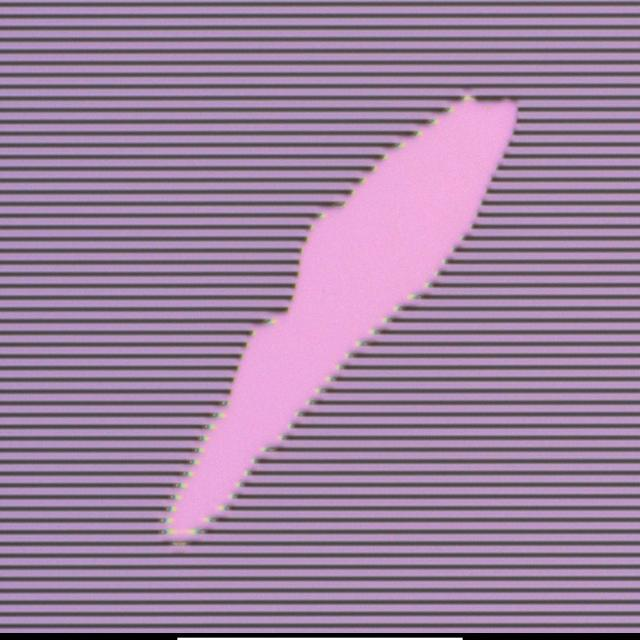03_intrusion: (158, 88, 522, 561)
